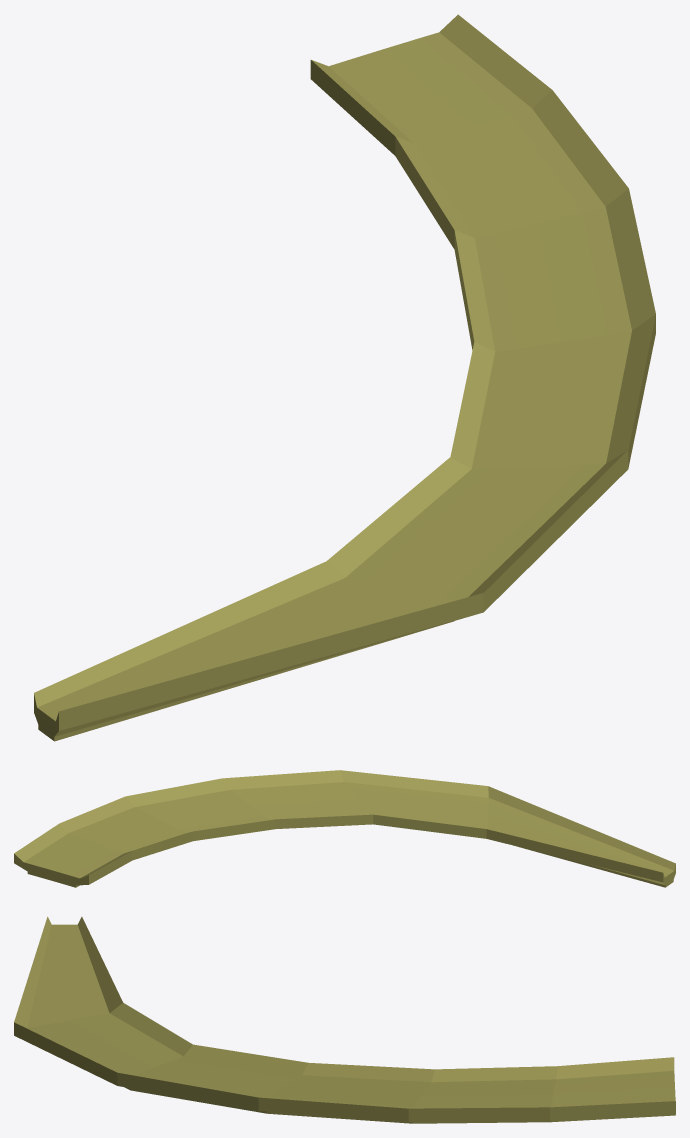
The model's file is ConnecterCornerSlopedNarrow.fbx.
3 renders of one model, top to bottom at view 1: azimuth 30°, elevation 25°; view 2: azimuth 150°, elevation 25°; view 3: azimuth 270°, elevation 25°, orthographic. The views are drawn at different scales.
Parts seen in each view (by area): view 1: Cube.012; view 2: Cube.012; view 3: Cube.012.
Part boxes in pixels (<box>): Cube.012: <box>34,14,655,741</box>; Cube.012: <box>14,770,675,887</box>; Cube.012: <box>14,916,675,1123</box>.
Bounding box in the file's own units: 2705 × 2643 × 544.
